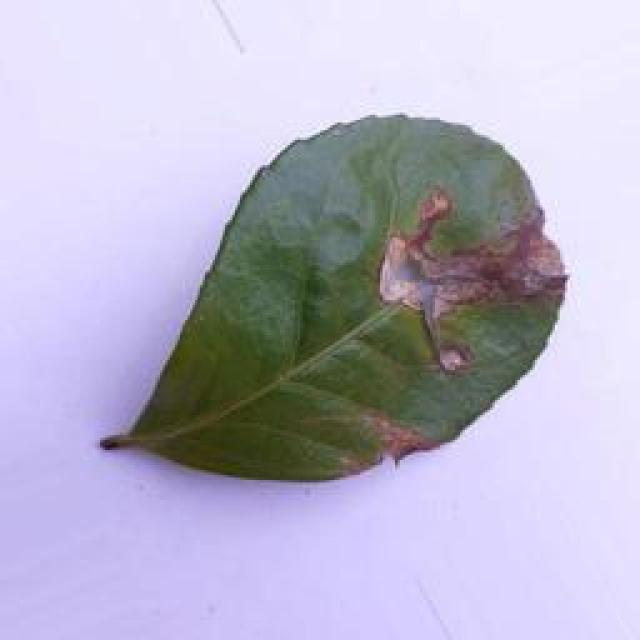Gray Blight: (100, 103, 570, 486)
